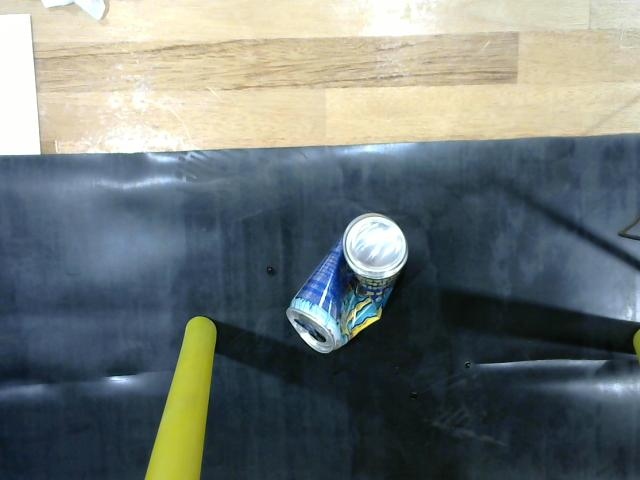glass: (282, 203, 409, 365)
